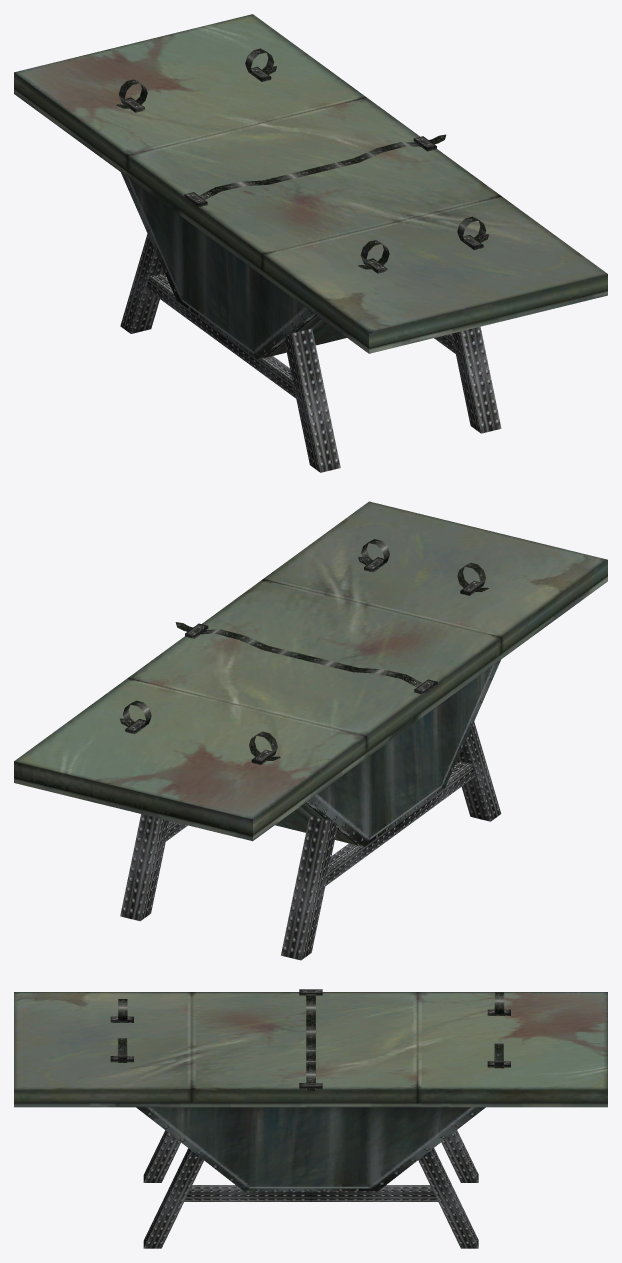
The model's file is merovingian_torture_table.fbx.
3 views of the same model, one above another, from view 1: azimuth 30°, elevation 25°; view 2: azimuth 150°, elevation 25°; view 3: azimuth 270°, elevation 25° (orthographic). The views are drawn at different scales.
Visible parts, largest first — view 1: mesh_0; view 2: mesh_0; view 3: mesh_0.
Boxes of the visible parts, x1,y1,x2,y2 form: mesh_0: [14, 14, 607, 472]; mesh_0: [14, 501, 607, 960]; mesh_0: [14, 989, 607, 1248].
Size of the model in its own units: 131 by 112 by 315.
Materials: 1 (1 with a texture image).
